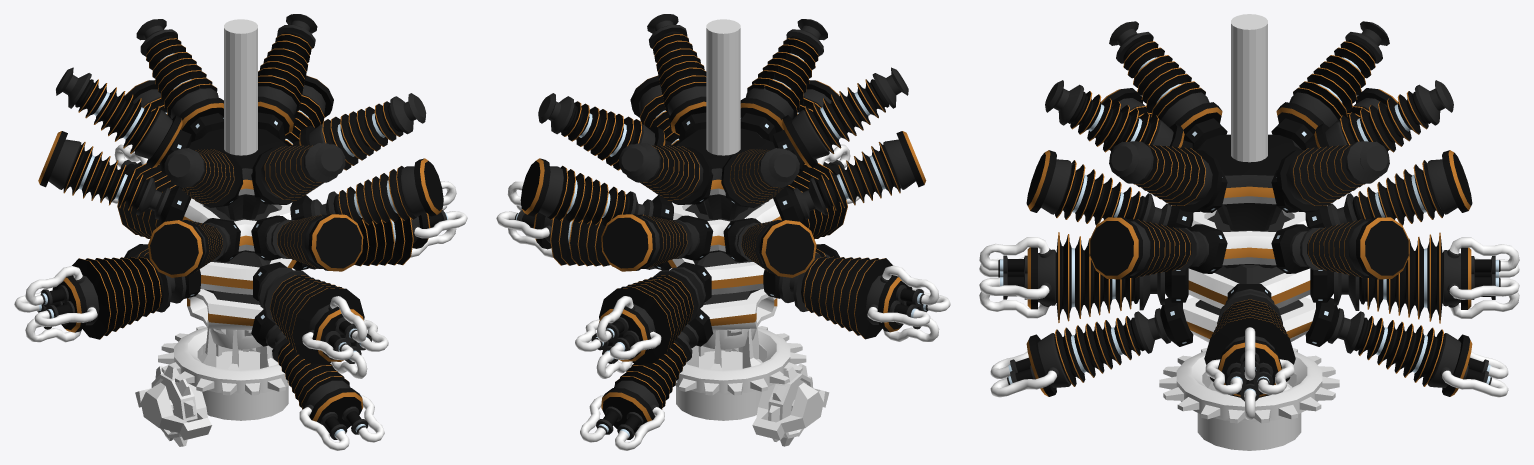
Rendered from SpaceBase_engine.FBX.
3 views of the same model, side by side, from view 1: azimuth 30°, elevation 25°; view 2: azimuth 150°, elevation 25°; view 3: azimuth 270°, elevation 25° (orthographic). The views are drawn at different scales.
Parts seen in each view (by area): view 1: Box074, Box072, Box073, Cylinder017, Box071, Box070, Object055, Cylinder019; view 2: Box074, Box072, Box073, Cylinder017, Box071, Box070, Object055, Cylinder019; view 3: Box074, Box072, Box073, Box071, Cylinder017, Object055.
Part boxes in pixels (x1,y1,x2,y2): Box074: (56,14,426,219); Box072: (14,144,467,378); Box073: (38,75,443,277); Cylinder017: (158,19,288,395); Box071: (124,244,384,450); Box070: (135,382,211,440); Object055: (202,386,288,420); Cylinder019: (151,364,197,446); Box074: (538,14,908,220); Box072: (496,144,950,378); Box073: (520,75,926,277); Cylinder017: (675,19,806,395); Box071: (580,244,840,450); Box070: (752,382,829,440); Object055: (676,386,761,420); Cylinder019: (768,364,813,446); Box074: (1045,21,1453,231); Box072: (979,232,1519,419); Box073: (1026,88,1472,279); Box071: (990,297,1508,397); Cylinder017: (1159,14,1339,423); Object055: (1197,413,1301,450).
Size of the model in its own units: 11.86 by 10.54 by 11.86.
